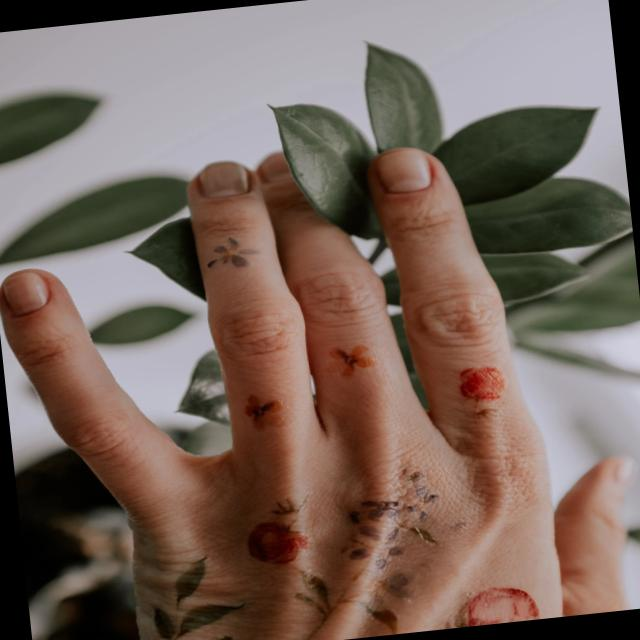Nail: (372, 147, 431, 192), (0, 270, 47, 316), (597, 452, 625, 518), (197, 161, 248, 197)
